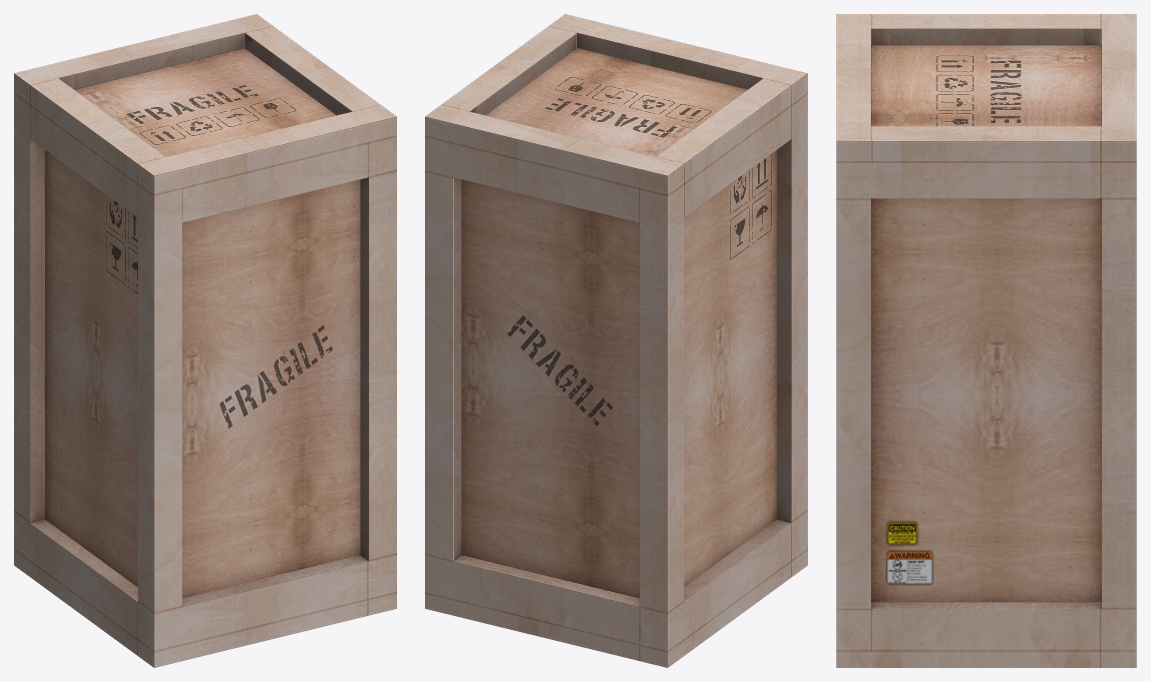
File: Crate.glb
3 renders of one model, left to right at view 1: azimuth 30°, elevation 25°; view 2: azimuth 150°, elevation 25°; view 3: azimuth 270°, elevation 25°, orthographic. The views are drawn at different scales.
Parts seen in each view (by area): view 1: Box002; view 2: Box002; view 3: Box002.
Boxes of the visible parts, left/top/right/bottom form: Box002: left=14, top=14, right=396, bottom=667; Box002: left=425, top=14, right=807, bottom=667; Box002: left=836, top=14, right=1136, bottom=667.
Bounding box in the file's own units: 0.5499 × 1.07 × 0.5499.
Materials: 1 (1 with a texture image).
